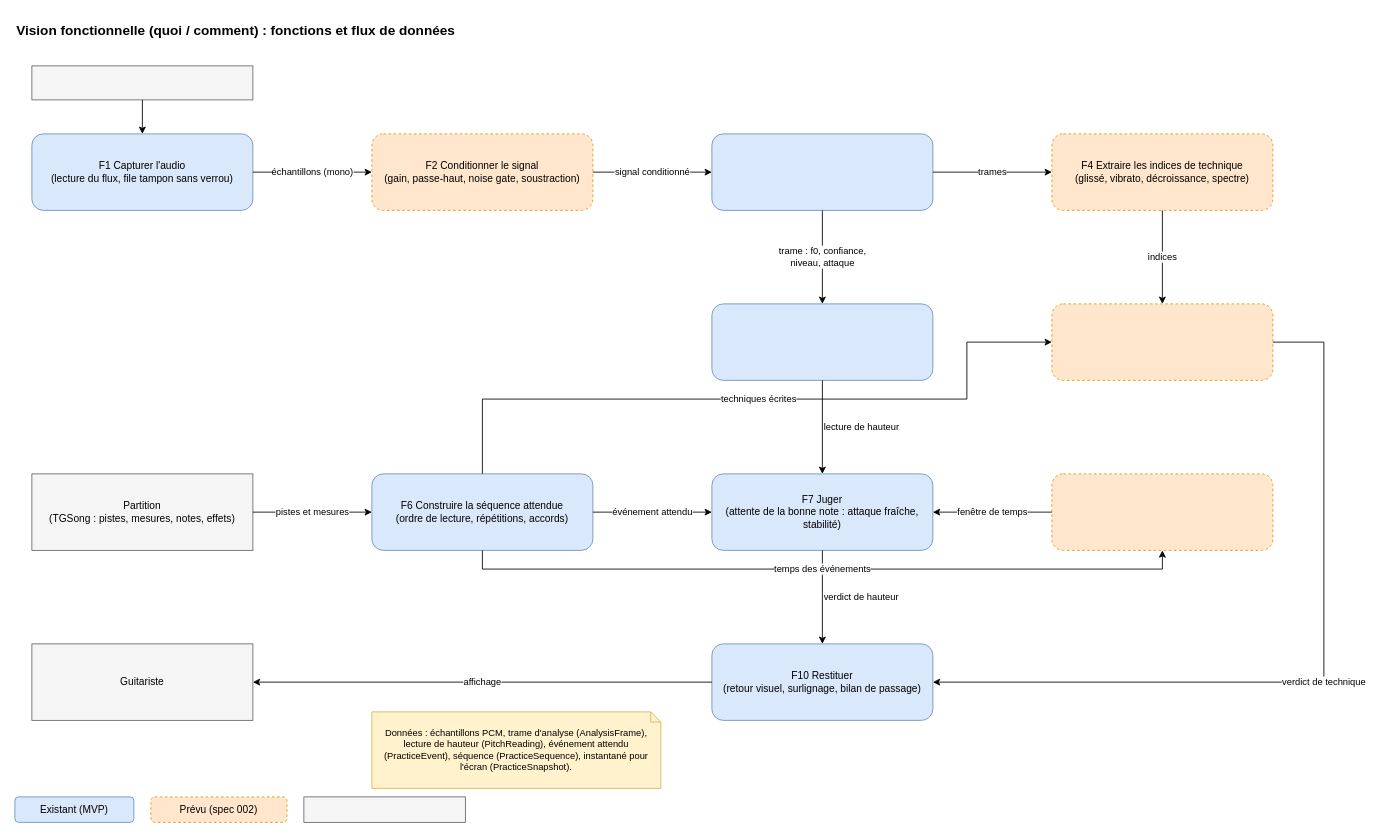
Image size: 1398x837. Some labels were removed from this diagram. The shapes that lost their labels are listed below. From the top down, each one's centre as x and y in pixels, then its label:
the point at 142,82: Signal de la guitare
the point at 822,171: F3 Analyser (niveau, hauteur YIN, attaque, spectre polyphonique)
the point at 822,341: F5 Interpréter (note MIDI la plus proche, écart en cents, tolérance)
the point at 1162,341: F9 Juger les techniques (détectée / non détectée / incertaine / non vérifiable)
the point at 1162,511: F8 Suivre le tempo (horloge, fenêtres de tolérance, resynchronisation)
the point at 384,809: Acteur / élément externe
